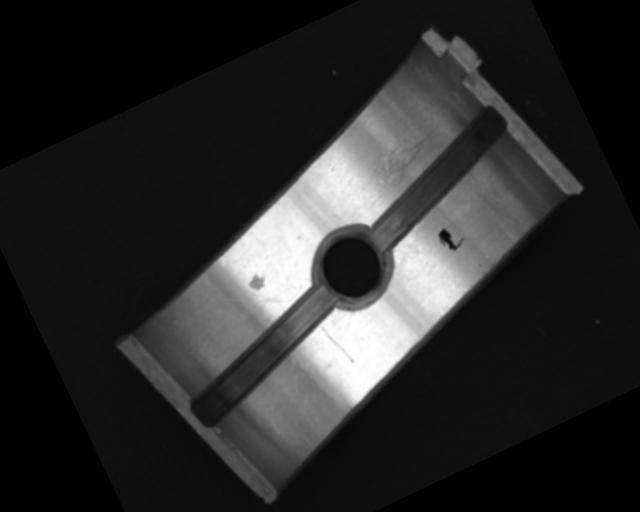blot: (434, 220, 469, 255)
bruise: (244, 268, 270, 294)
gap: (340, 102, 533, 253)
hole: (167, 278, 363, 430), (304, 219, 405, 318)
nick: (318, 317, 355, 370)
scratch: (351, 125, 459, 211)
